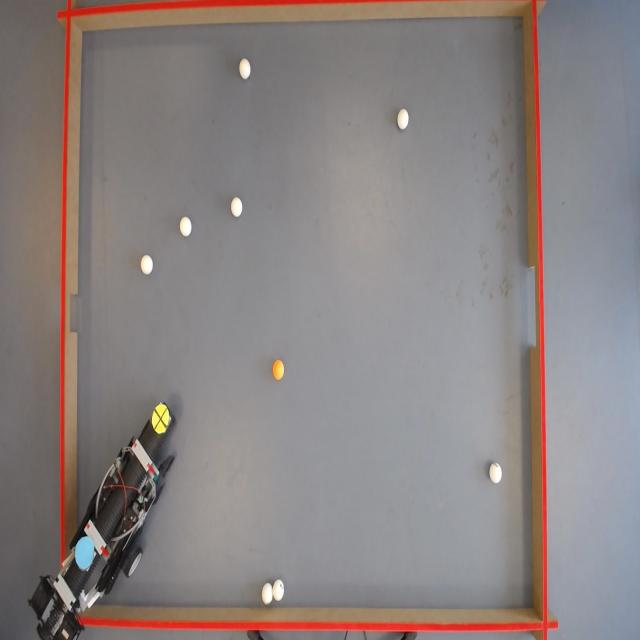orange: (273, 360, 287, 380), (273, 579, 285, 602)
robot: (24, 405, 180, 640)
robot-front: (151, 403, 172, 435)
robot-rear: (76, 534, 96, 571)
white: (239, 58, 253, 80), (140, 256, 154, 277), (262, 584, 275, 606), (396, 108, 409, 129), (179, 216, 192, 236), (490, 463, 503, 483), (232, 198, 244, 218)
